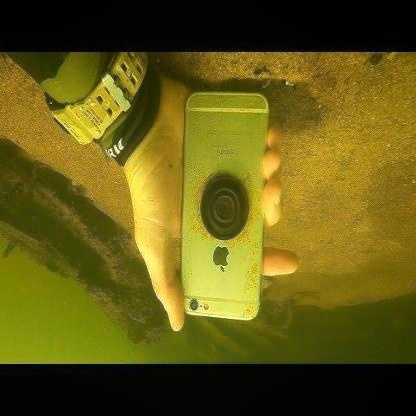cellphone: (179, 90, 269, 323)
